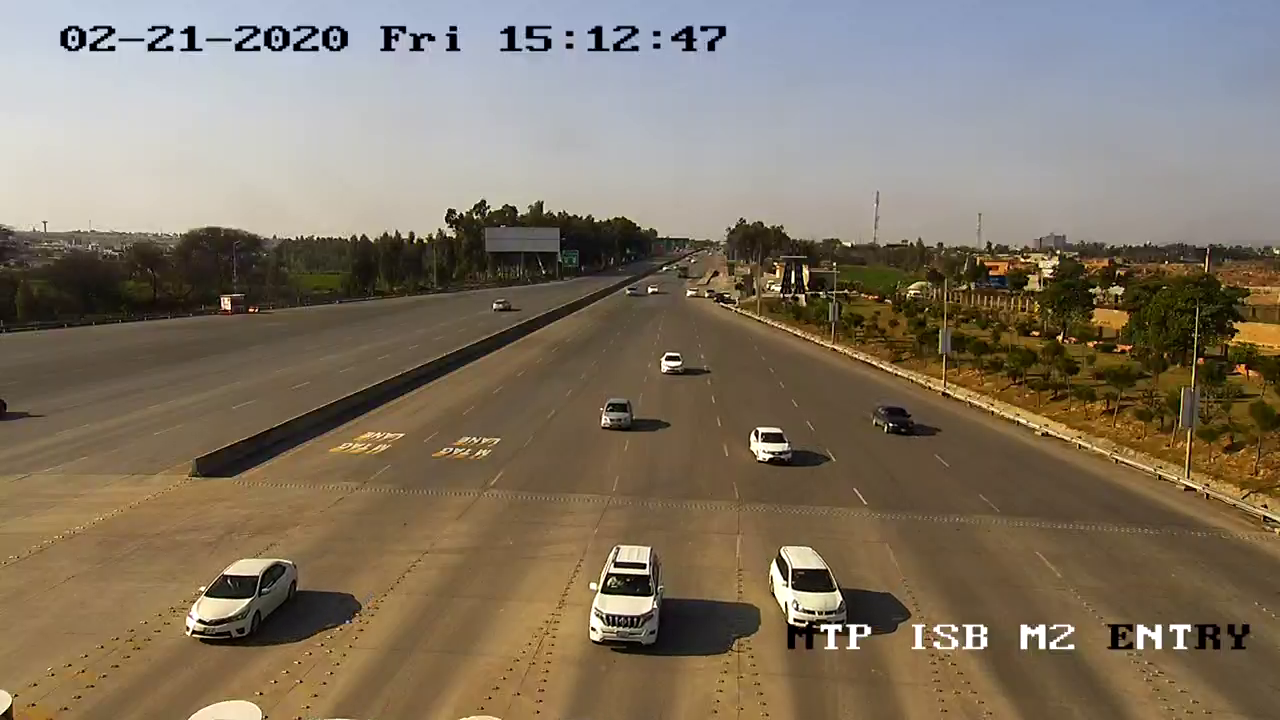f1: (180, 547, 306, 648), (582, 534, 670, 657), (764, 538, 853, 636), (744, 420, 802, 473), (594, 388, 639, 438)
